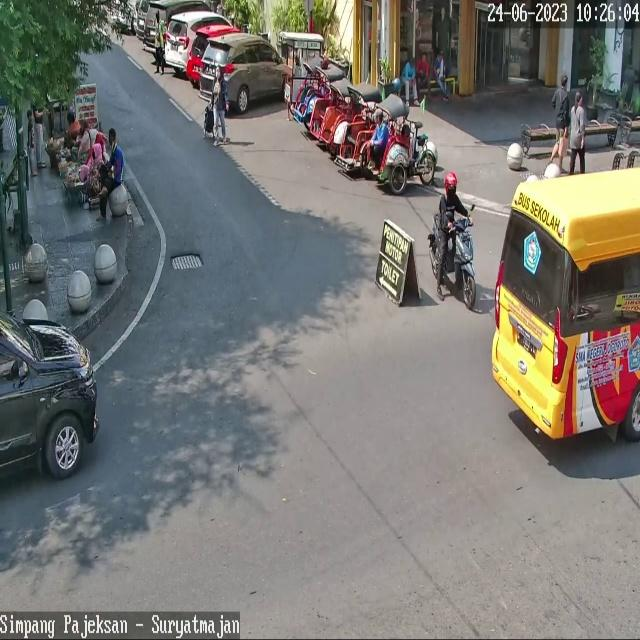bus: (432, 211, 476, 308)
car: (492, 168, 640, 440)
motorcycle: (0, 312, 97, 480), (201, 34, 281, 114), (164, 9, 233, 67), (144, 0, 212, 54), (186, 24, 242, 82)
